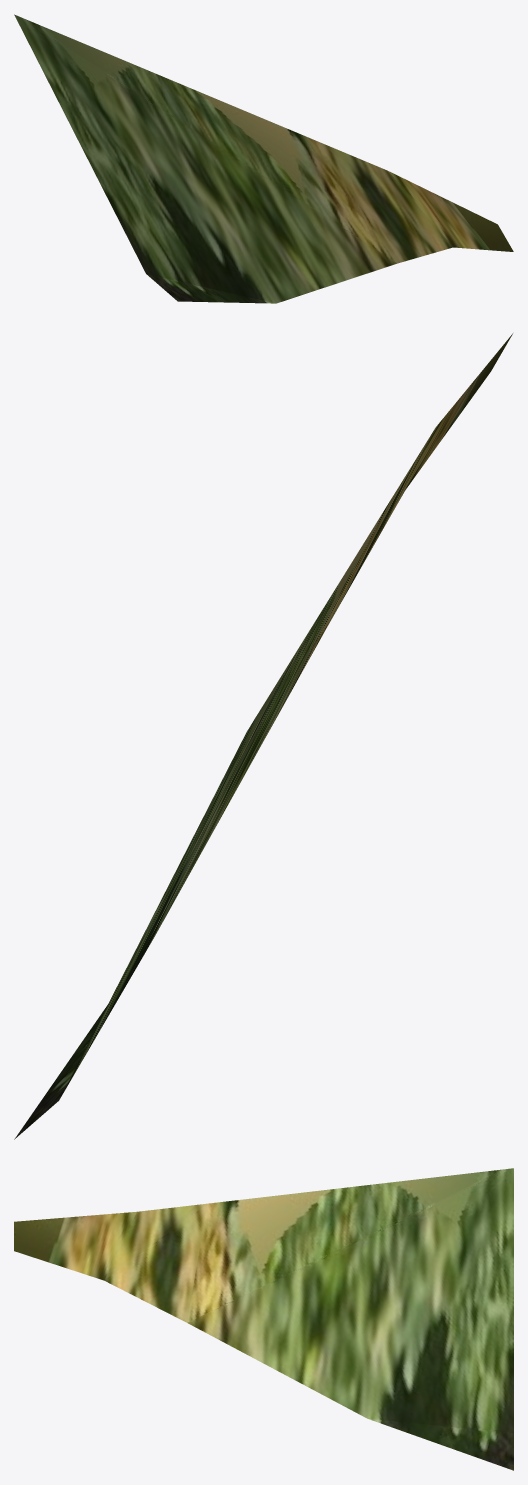
3 renders of one model, top to bottom at view 1: azimuth 30°, elevation 25°; view 2: azimuth 150°, elevation 25°; view 3: azimuth 270°, elevation 25°, orthographic. The views are drawn at different scales.
Size of the model in its own units: 0.8294 by 1.58 by 2.95.
Materials: 1 (1 with a texture image).
